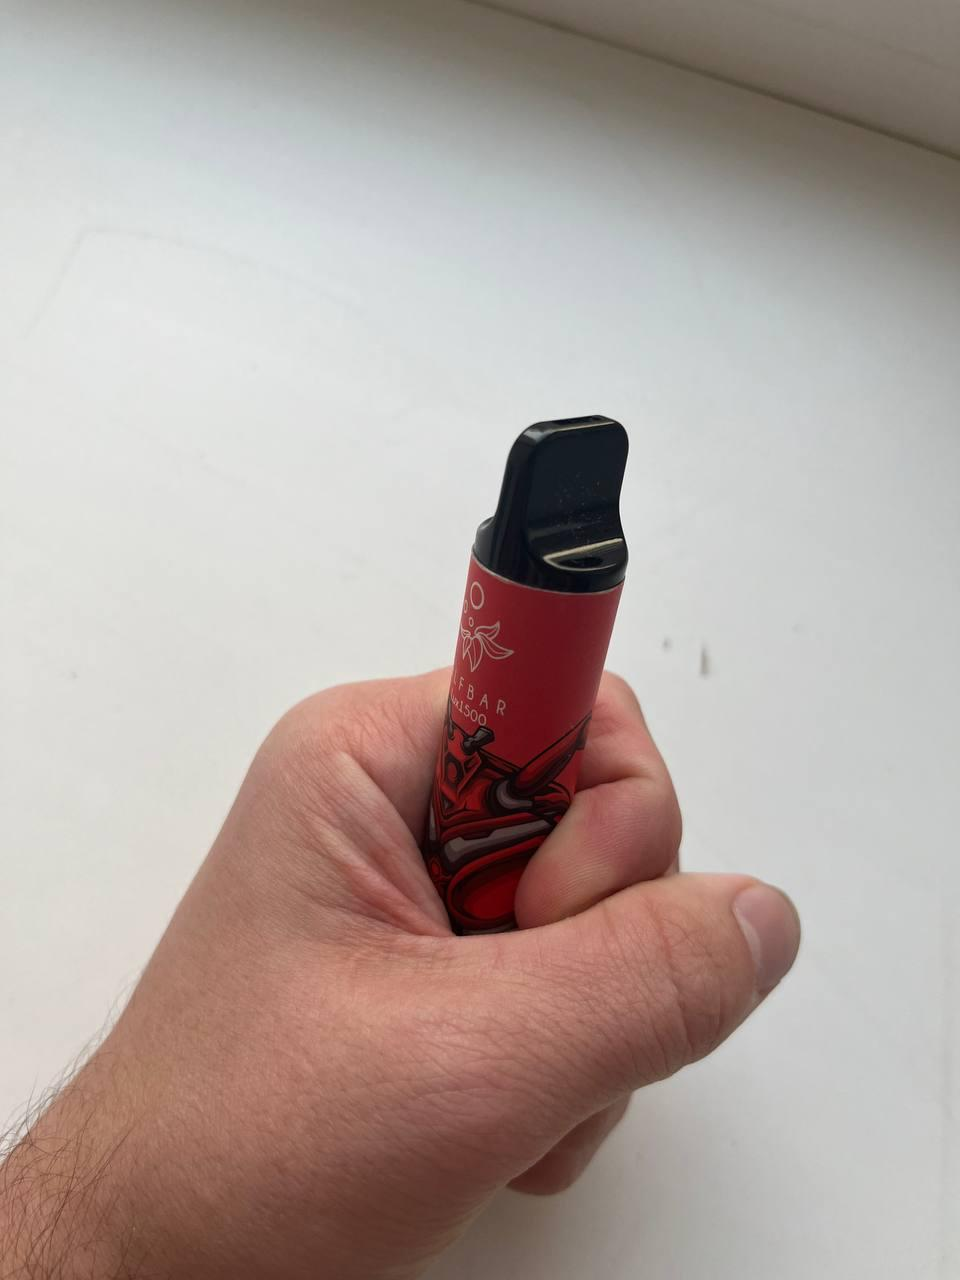Vape: (423, 415, 628, 934)
